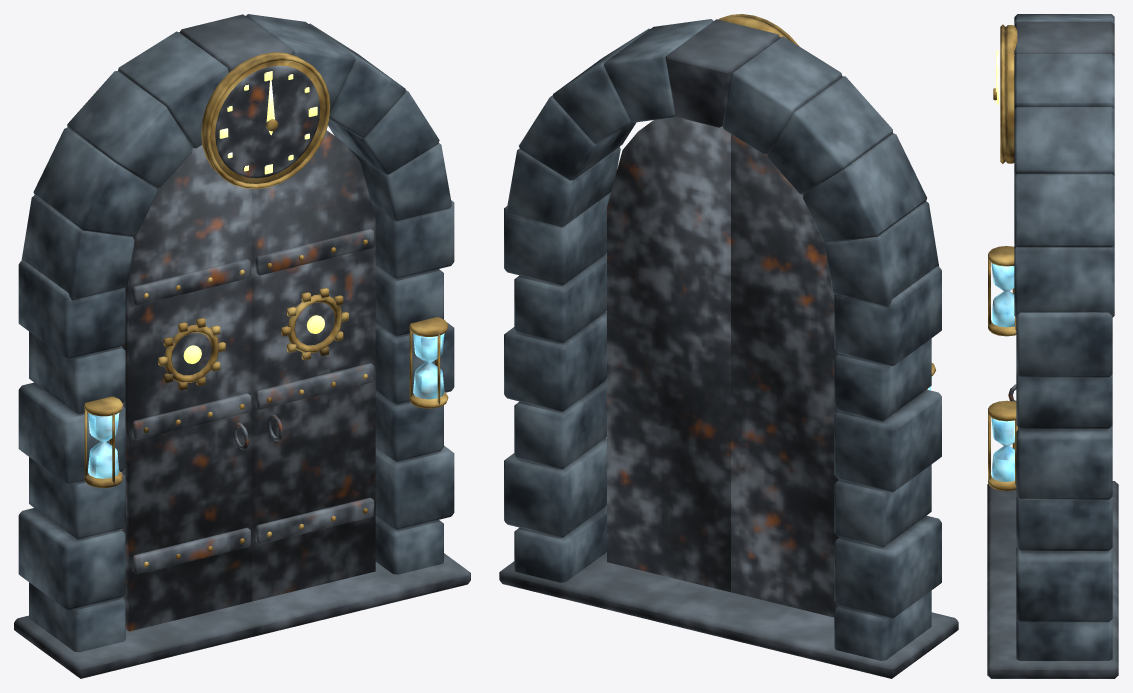
Rendered from TimedDoor.fbx.
3 renders of one model, left to right at view 1: azimuth 30°, elevation 25°; view 2: azimuth 150°, elevation 25°; view 3: azimuth 270°, elevation 25°, orthographic. The views are drawn at different scales.
Parts seen in each view (by area): view 1: TimedDoor, TimedDoor_Left, TimedDoor_Right; view 2: TimedDoor, TimedDoor_Right, TimedDoor_Left; view 3: TimedDoor.
Part boxes in pixels (x1=…): TimedDoor: x1=14, y1=14, x2=470, y2=678; TimedDoor_Left: x1=121, y1=145, x2=252, y2=631; TimedDoor_Right: x1=252, y1=130, x2=375, y2=601; TimedDoor: x1=499, y1=14, x2=958, y2=678; TimedDoor_Right: x1=607, y1=115, x2=730, y2=592; TimedDoor_Left: x1=731, y1=134, x2=839, y2=617; TimedDoor: x1=987, y1=14, x2=1118, y2=678.
Size of the model in its own units: 2.3 by 3.18 by 0.68.
